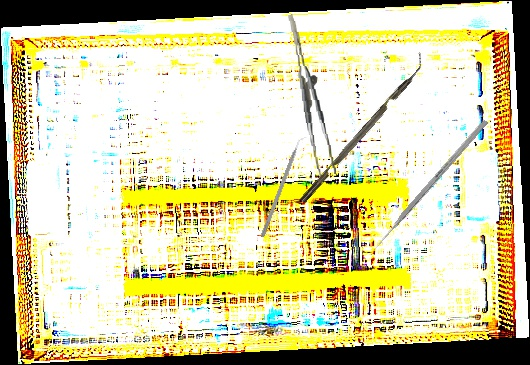Chopper: (292, 52, 432, 204), (260, 134, 309, 240)
Pusher: (368, 118, 489, 256)
Tissue Forceps: (287, 11, 337, 178)
